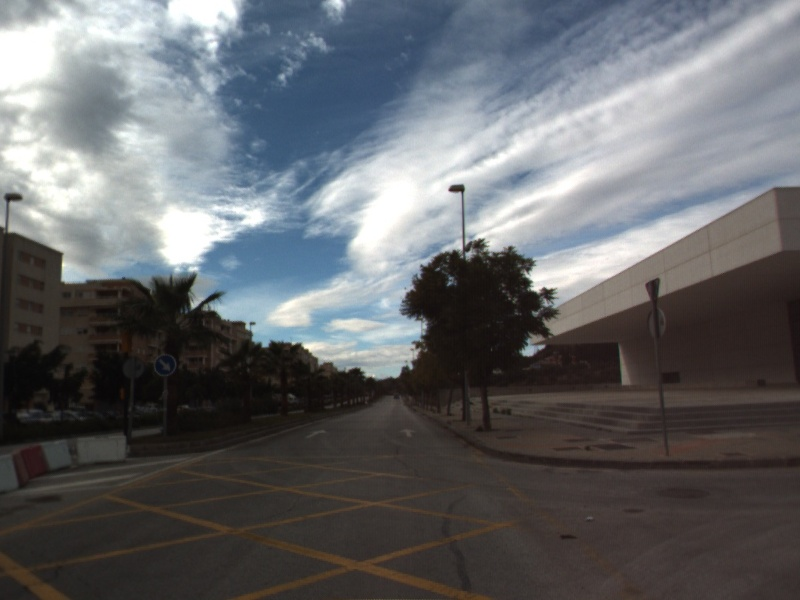STRAIGHT: (303, 427, 329, 440), (398, 426, 418, 439)
